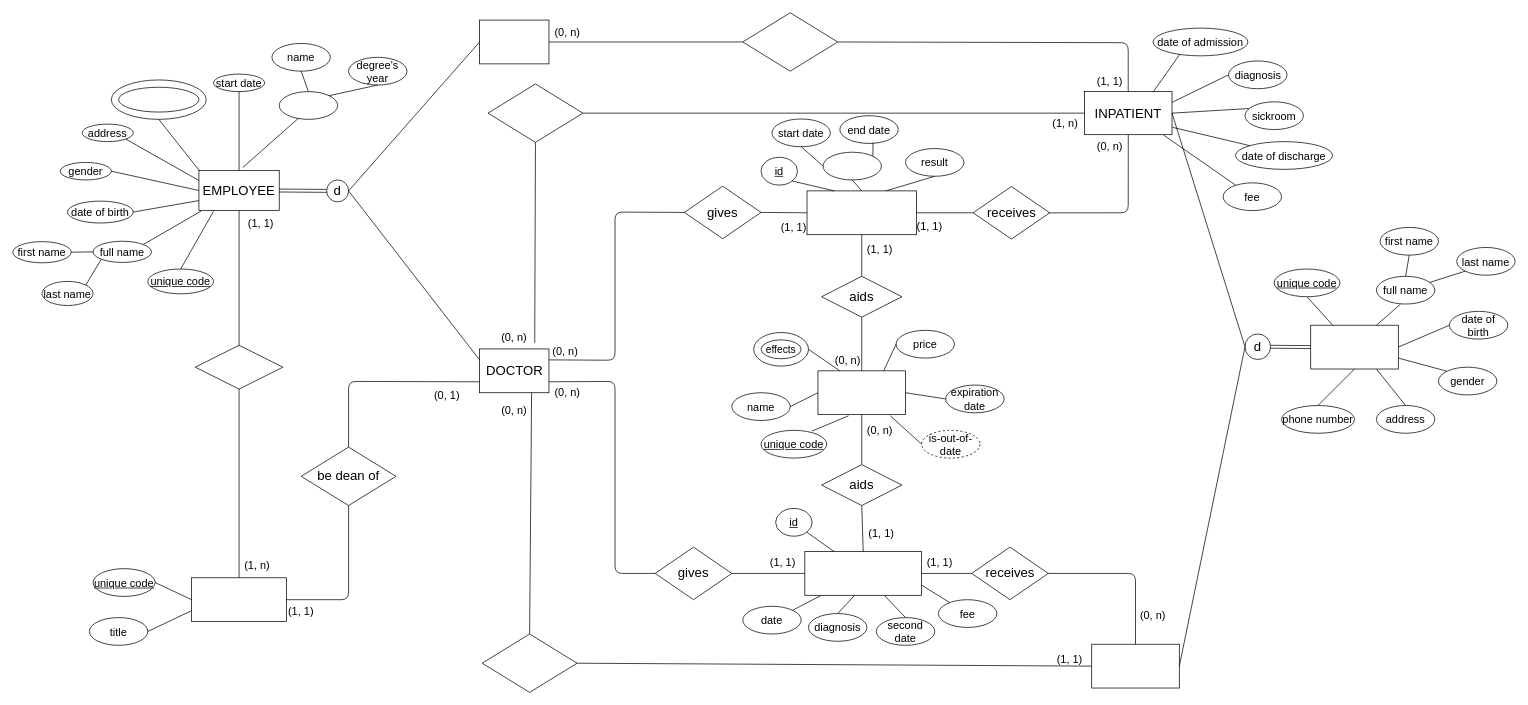
Image size: 1528x705. Some labels were removed from this diagram. Here are the shapes that lost their labels. From the top down, the centre of each, then its label:
point 514,41: Nurse
point 790,41: takes care
point 158,99: phone numbers
point 308,105: speciality
point 535,112: treats
point 851,165: period
point 861,212: TREATMENT
point 1354,346: PATIENT
point 239,367: belongs to
point 861,392: MEDICATION
point 863,573: EXAMINATION
point 239,599: DEPARTMENT
point 529,662: examines
point 1135,665: OUTPATIENT
